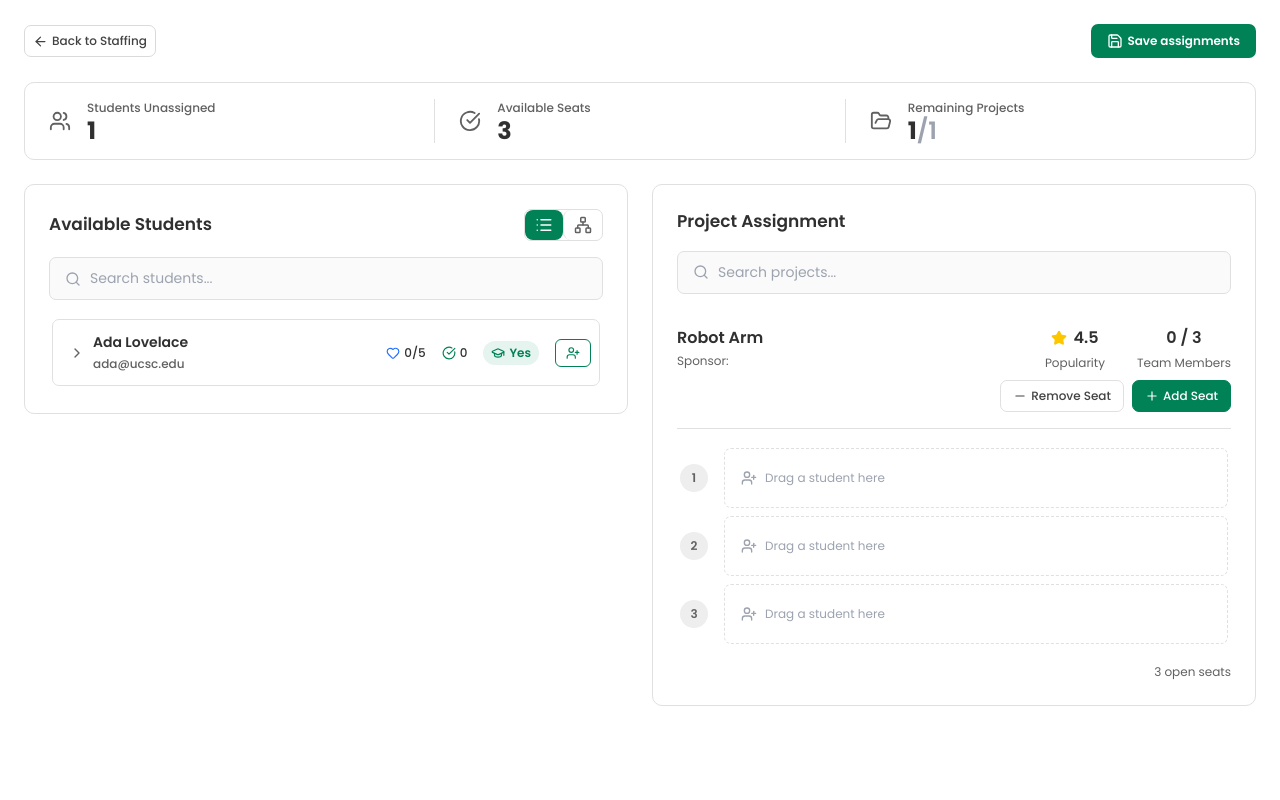
Test case: Assign › keeps the error from a failed "Add a seat" after the reload
Click the button with aria-label "Add a seat": [1182, 396] box [1132, 380, 1231, 412]
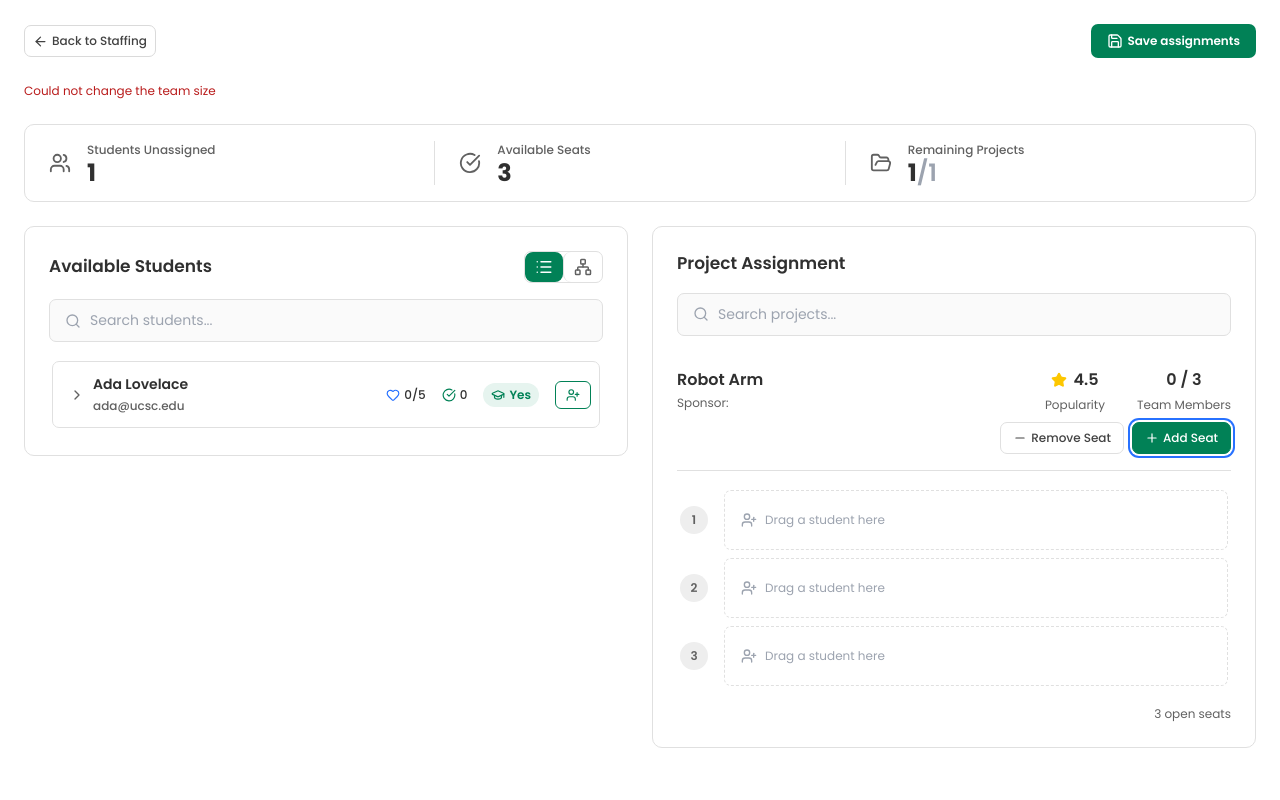
Check: the text "0 / 3" is shown, box [1166, 368, 1202, 392]
Check: the text "Could not change the team size" is shown, box [24, 82, 216, 99]
